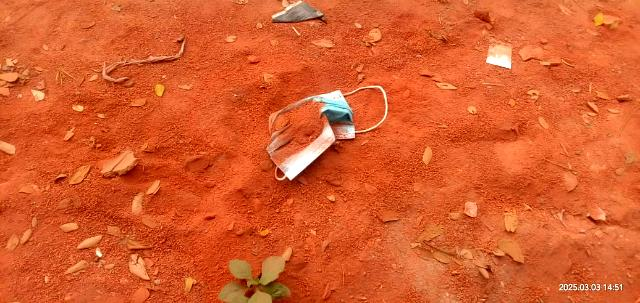mask: (258, 84, 364, 176)
